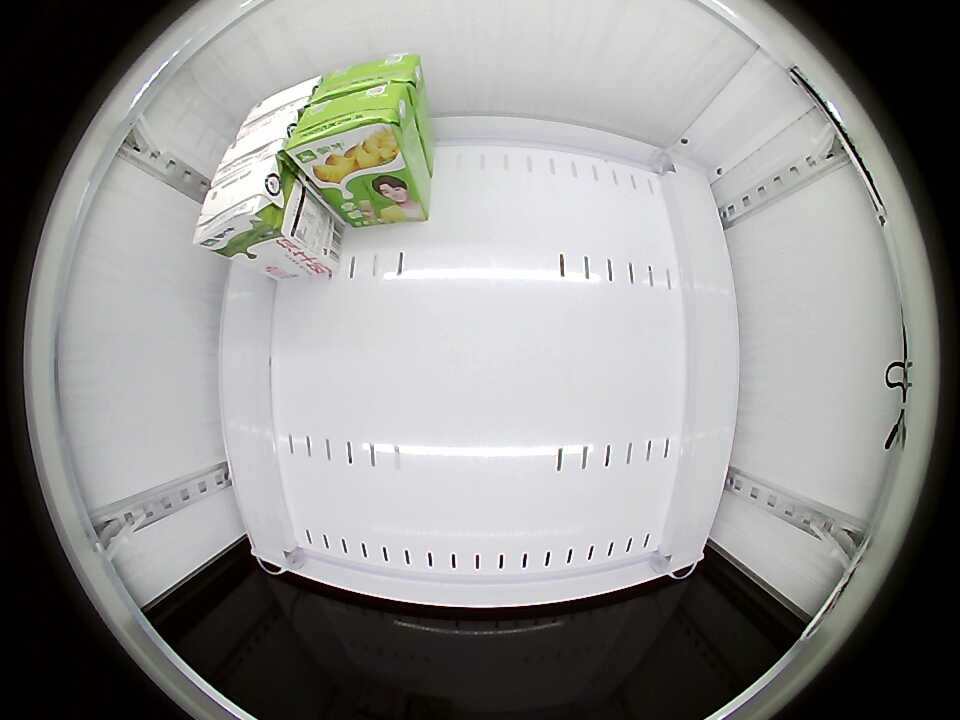mengniu: (193, 152, 293, 257), (215, 110, 298, 181), (241, 74, 321, 131)
mengniuzaocan: (286, 83, 415, 180), (308, 53, 422, 106)
